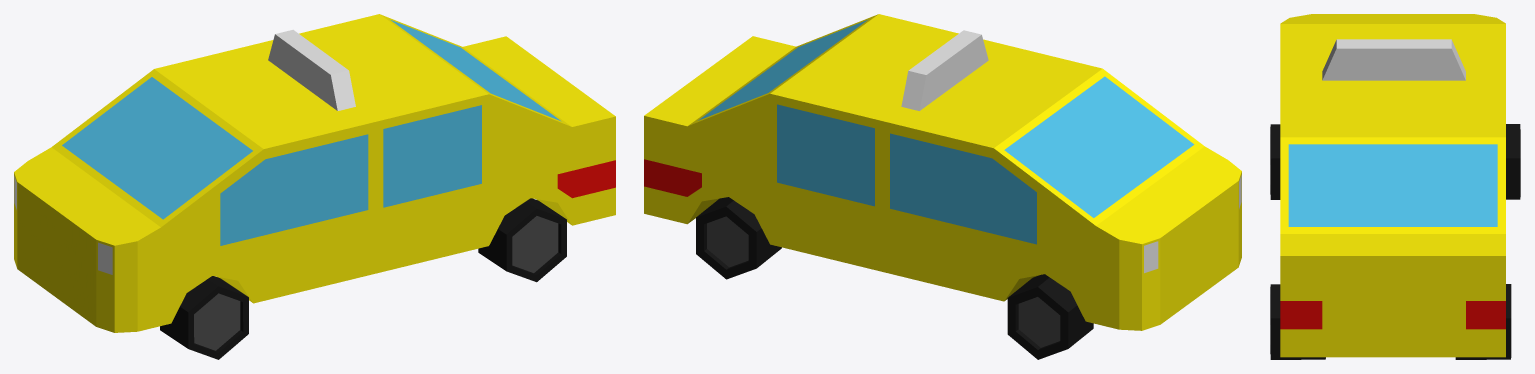
Rendered from tinttaxi.fbx.
3 views of the same model, side by side, from view 1: azimuth 30°, elevation 25°; view 2: azimuth 150°, elevation 25°; view 3: azimuth 270°, elevation 25° (orthographic). The views are drawn at different scales.
Visible parts, largest first — view 1: Cube; view 2: Cube; view 3: Cube.
Part boxes in pixels (x1=…): Cube: x1=14, y1=14, x2=615, y2=359; Cube: x1=644, y1=14, x2=1241, y2=359; Cube: x1=1270, y1=14, x2=1520, y2=359.
Size of the model in its own units: 90.6 by 38.92 by 37.82.
